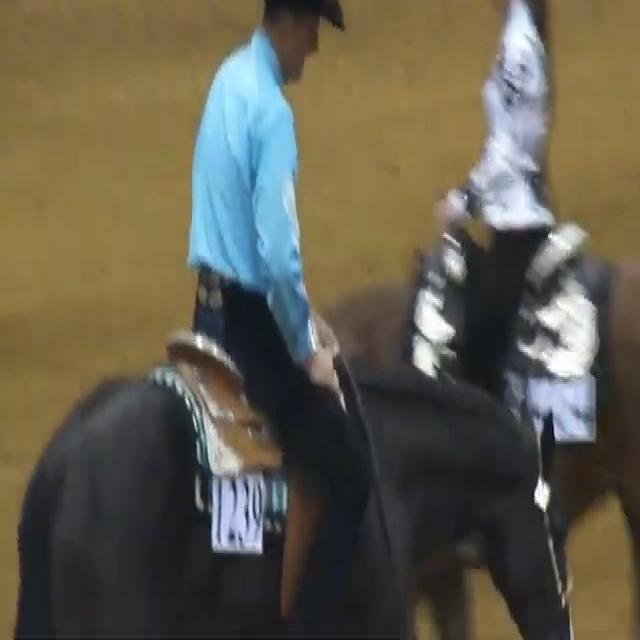horse: (0, 89, 588, 638), (354, 0, 640, 640)
